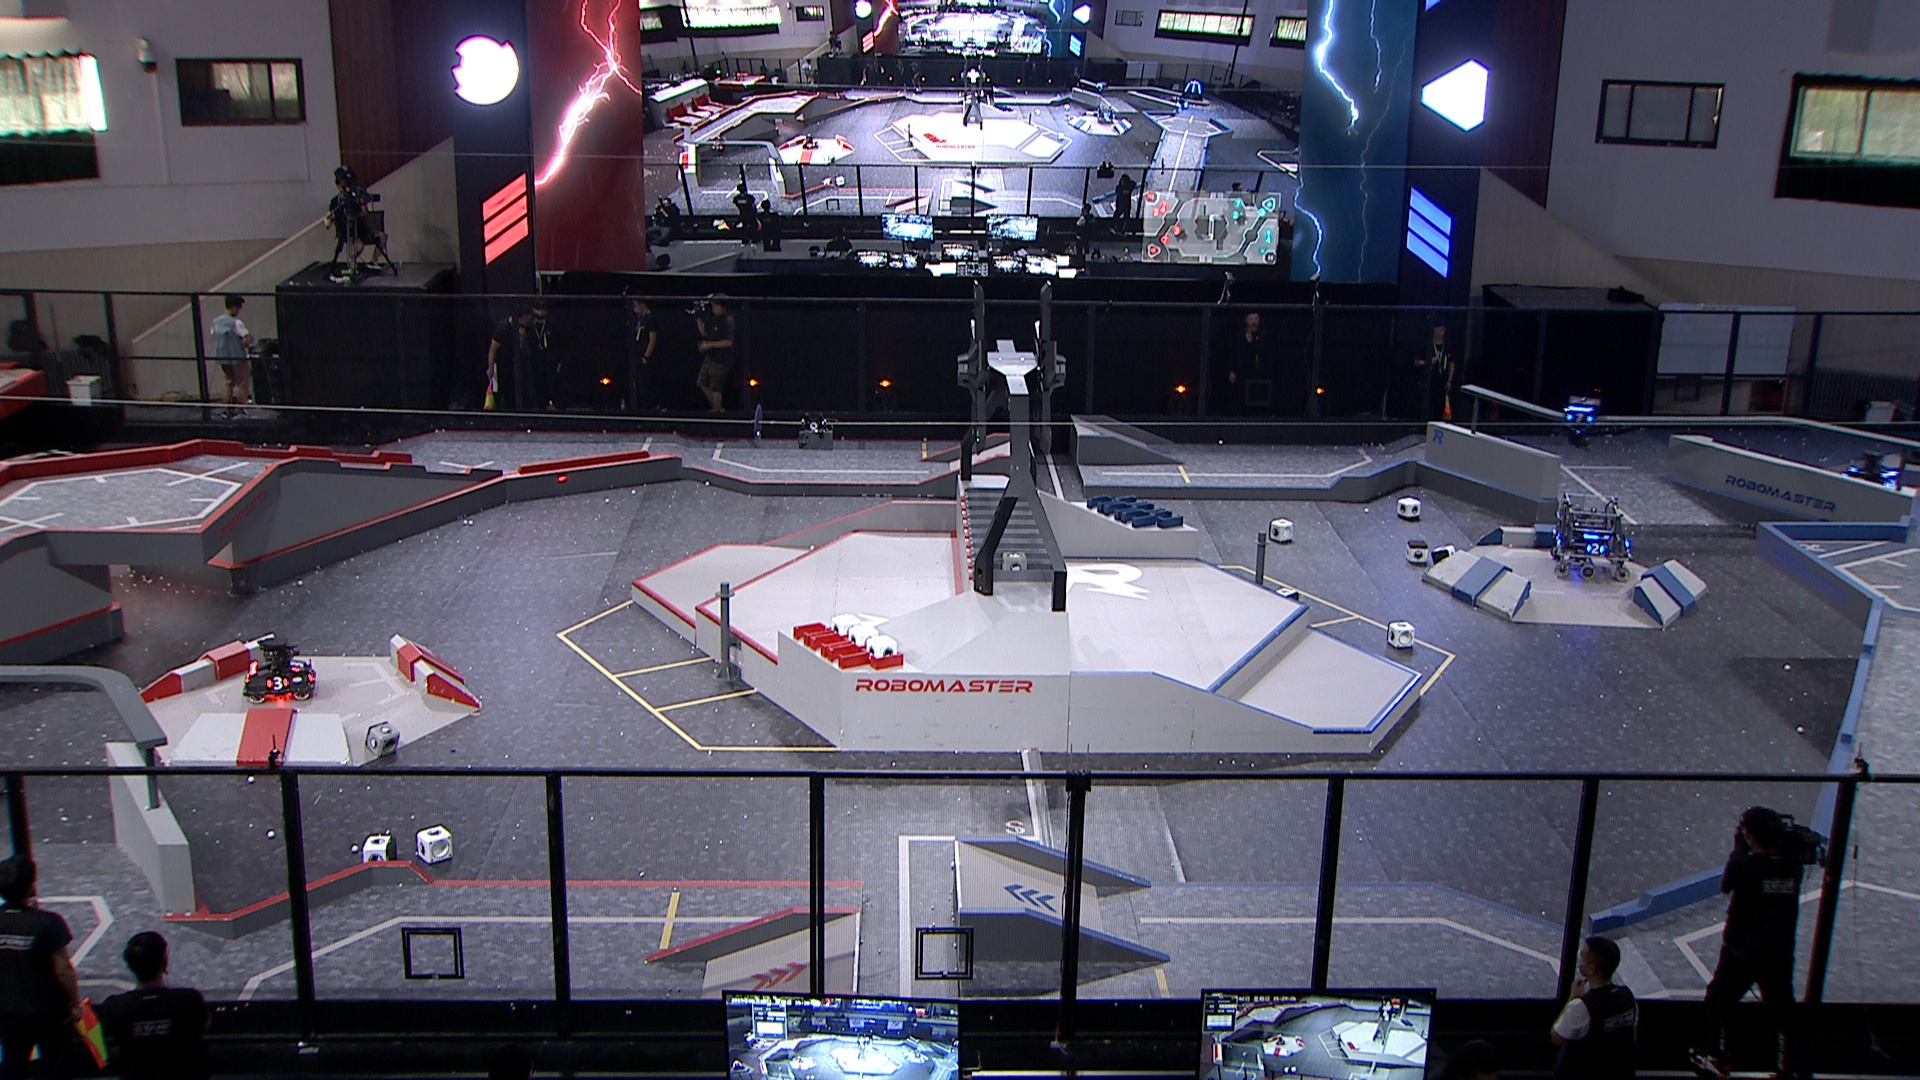armor: (264, 676, 290, 694), (1563, 411, 1594, 425), (1585, 541, 1607, 556), (287, 659, 309, 674)
car: (1548, 489, 1636, 580), (239, 636, 320, 703), (1840, 450, 1911, 496)
watcher: (1555, 396, 1607, 451)
